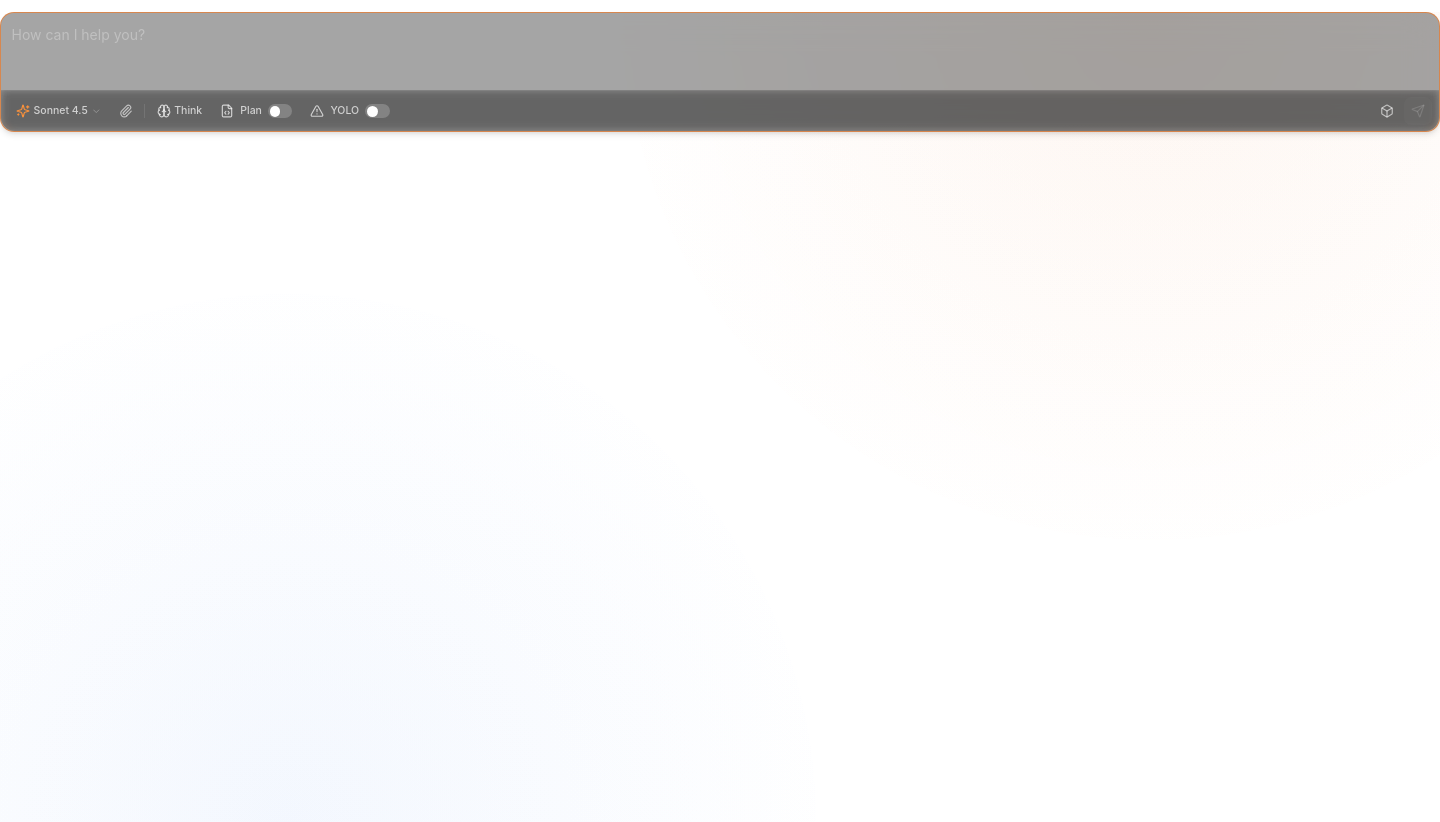
it: MessageInput › attachments › should show attachment menu when paperclip is clicked
Click the button titled "Attach file or image".
click(126, 111)  # box [112,97,140,125]
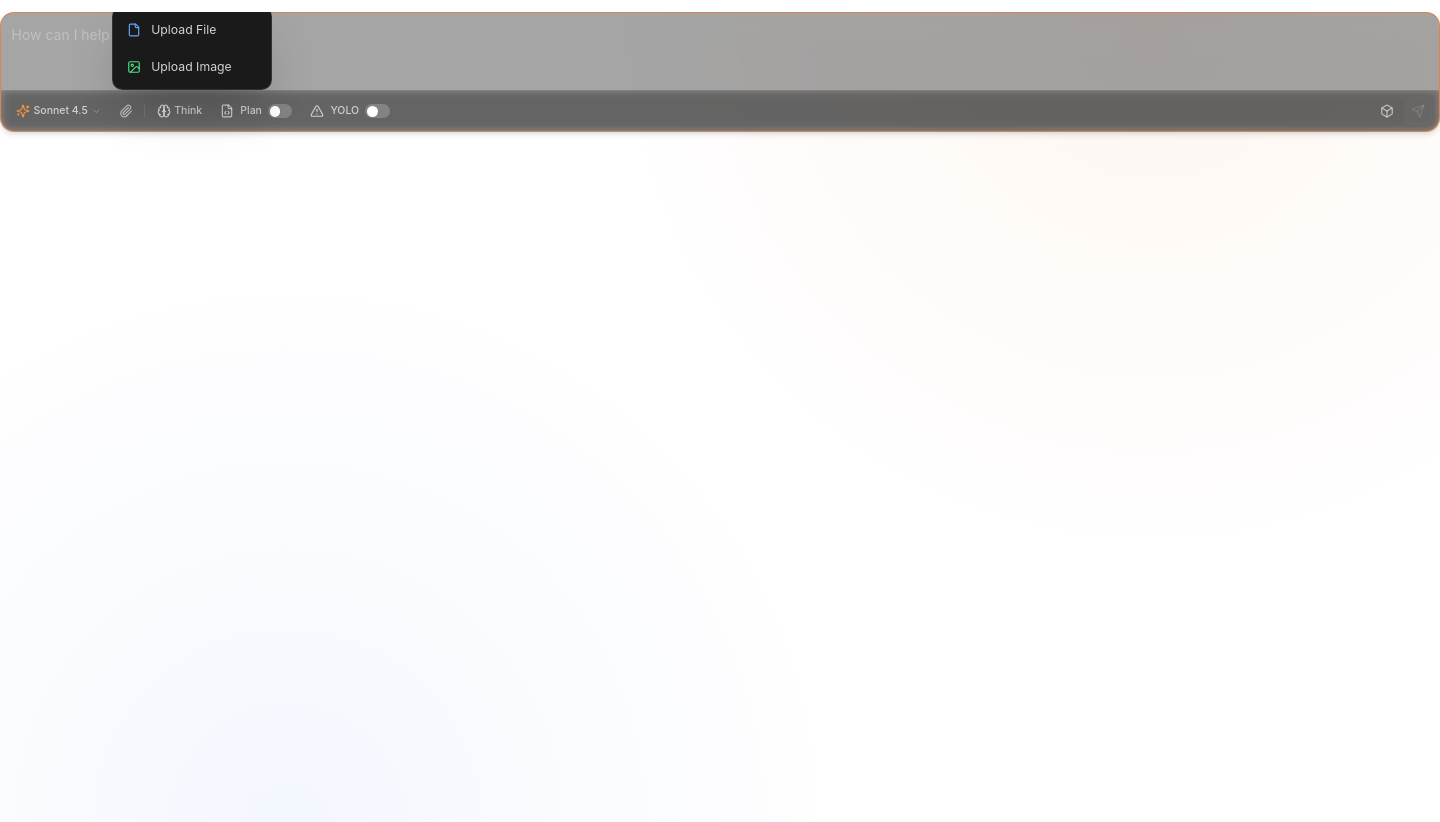
Result: the text "Upload File" is shown at [151,21,216,38]
Result: the text "Upload Image" is shown at [151,58,232,76]
